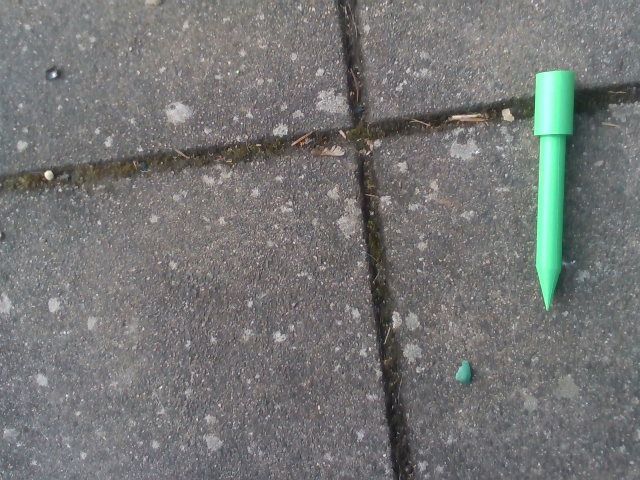Probe: (528, 65, 577, 319)
